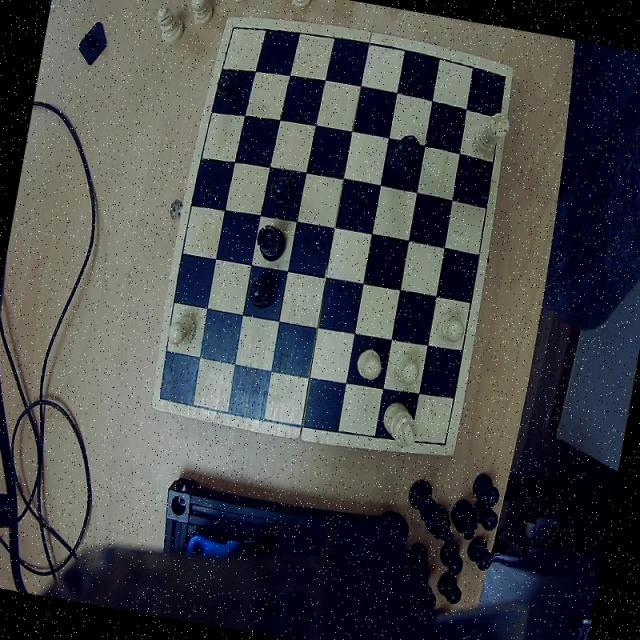chess-table-corners: (152, 382, 178, 410), (431, 431, 455, 457), (494, 64, 514, 94), (227, 16, 249, 40)
